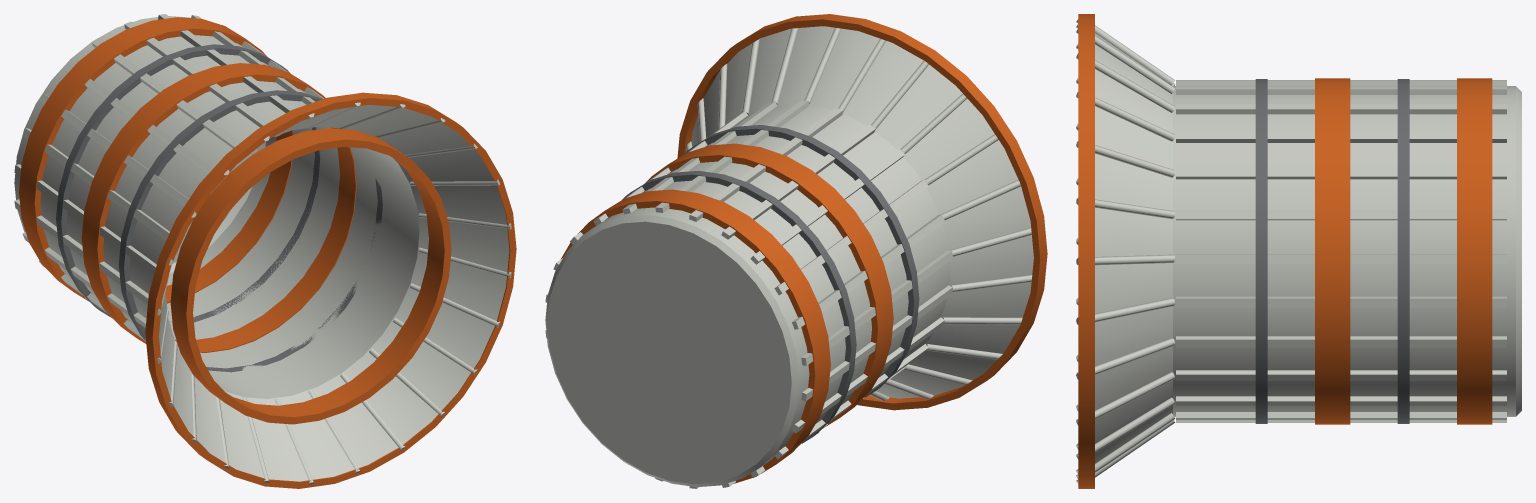
Rendered from u70_housing.obj.
The picture shows the model from 3 angles, left to right: view 1: azimuth 30°, elevation 25°; view 2: azimuth 150°, elevation 25°; view 3: azimuth 270°, elevation 25°; orthographic projection. The views are drawn at different scales.
Visible parts, largest first — view 1: u70_housing; view 2: u70_housing; view 3: u70_housing.
Part boxes in pixels (x1,y1,x2,y2): u70_housing: (14, 14, 516, 488); u70_housing: (545, 14, 1047, 488); u70_housing: (1076, 14, 1521, 488).
Bounding box in the file's own units: 4.02 × 4.02 × 3.77.
